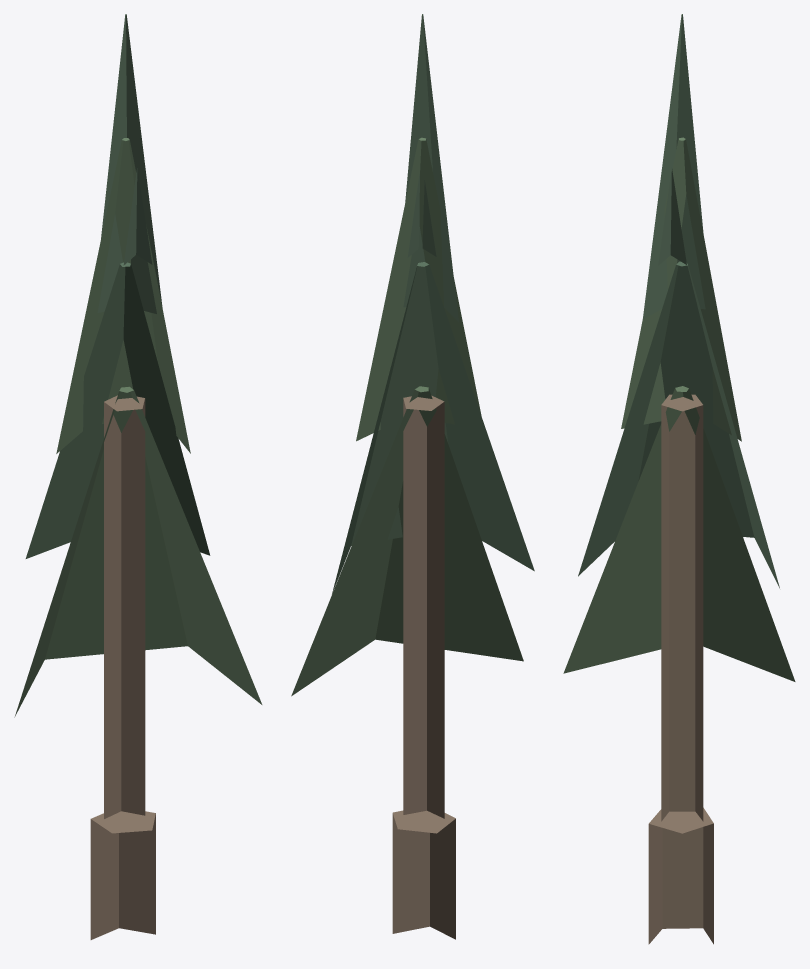
File: tree.cold.juniper__spring.glb
3 views of the same model, side by side, from view 1: azimuth 30°, elevation 25°; view 2: azimuth 150°, elevation 25°; view 3: azimuth 270°, elevation 25° (orthographic).
Parts seen in each view (by area): view 1: tree.cold.juniper__spring; view 2: tree.cold.juniper__spring; view 3: tree.cold.juniper__spring.
Part boxes in pixels (x1,y1,x2,y2): tree.cold.juniper__spring: (14,14,262,939); tree.cold.juniper__spring: (291,14,534,939); tree.cold.juniper__spring: (563,14,795,944).
Bounding box in the file's own units: 2.13 × 9.24 × 2.1.
